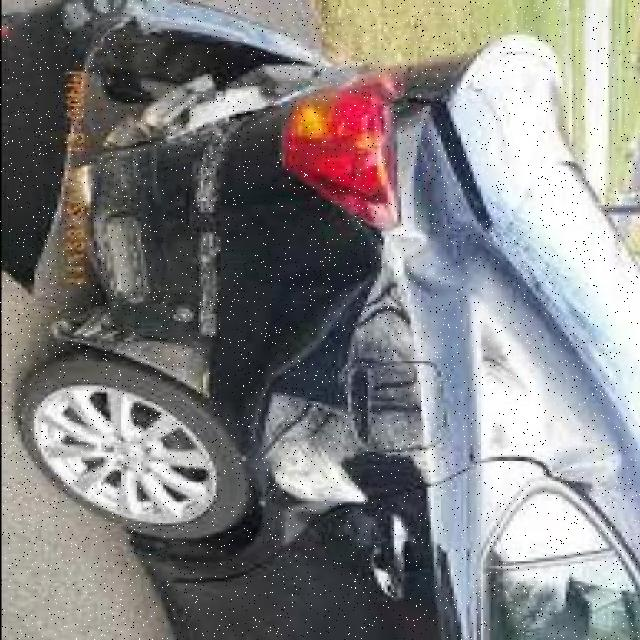damage: (5, 4, 451, 512)
